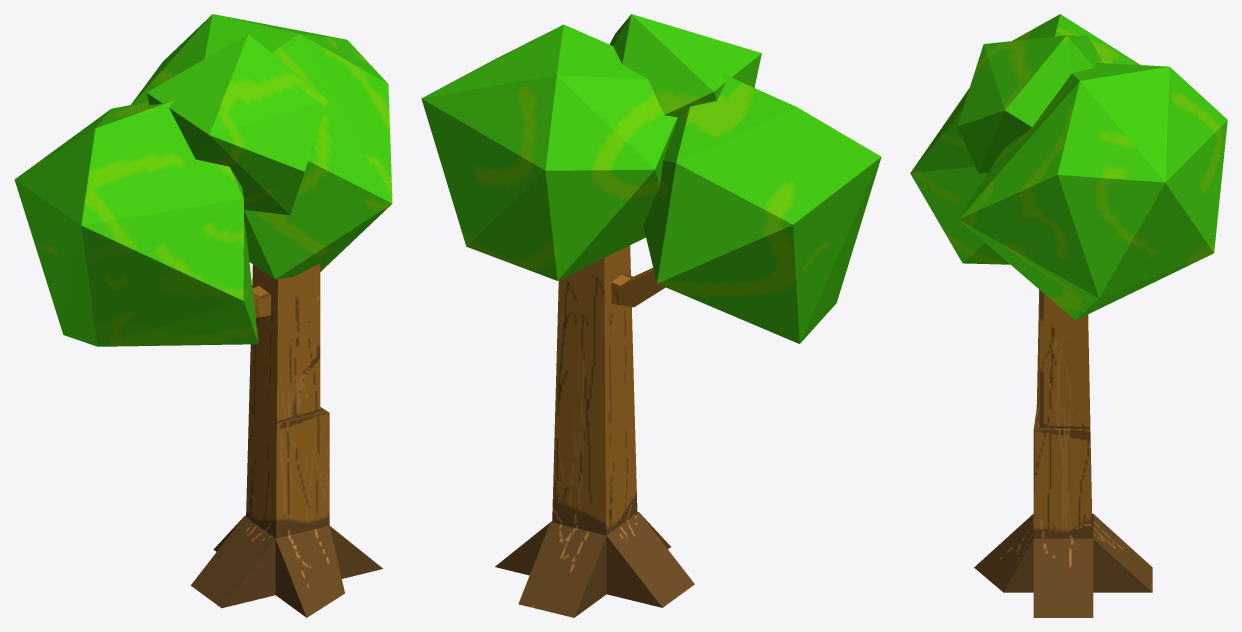
Rendered from tree_chesburg_1.glb.
The picture shows the model from 3 angles, left to right: view 1: azimuth 30°, elevation 25°; view 2: azimuth 150°, elevation 25°; view 3: azimuth 270°, elevation 25°; orthographic projection. The views are drawn at different scales.
Parts seen in each view (by area): view 1: leaves; view 2: leaves; view 3: leaves.
Boxes of the visible parts, x1,y1,x2,y2 form: leaves: (14,14,392,617); leaves: (421,14,881,617); leaves: (910,14,1227,617).
Size of what is drawn, in the model's own units: 6.68 by 9.76 by 5.33.
1 material, 1 textured.
